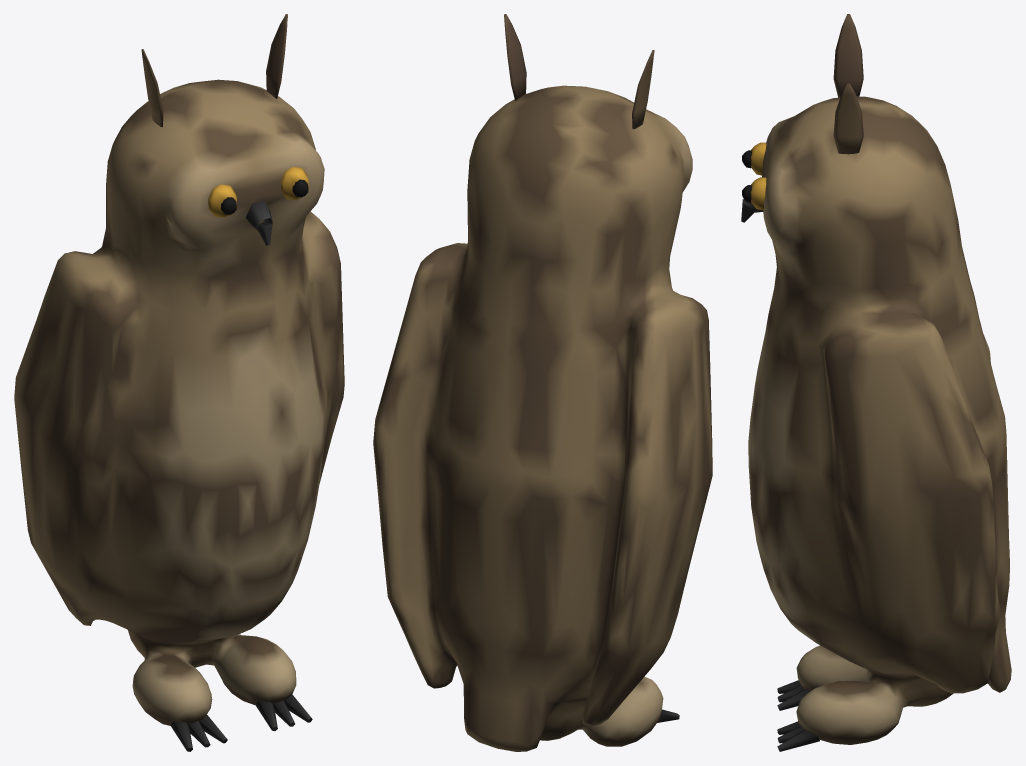
Rendered from uhu.glb.
The picture shows the model from 3 angles, left to right: view 1: azimuth 30°, elevation 25°; view 2: azimuth 150°, elevation 25°; view 3: azimuth 270°, elevation 25°; orthographic projection. The views are drawn at different scales.
Parts seen in each view (by area): view 1: lack; view 2: lack; view 3: lack.
Part boxes in pixels (x1,y1,x2,y2): lack: (14,14,344,751); lack: (373,14,712,751); lack: (741,14,1011,751).
Bounding box in the file's own units: 0.3057 × 0.6893 × 0.2508.
